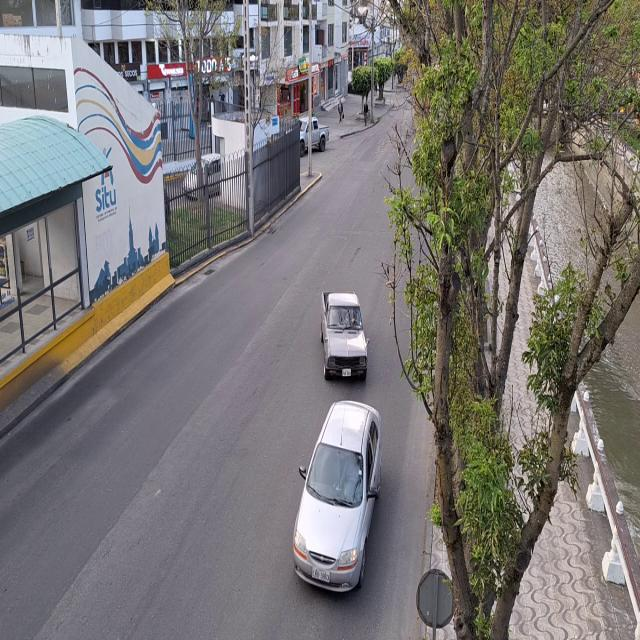CMT: (322, 290, 368, 380)
SED: (291, 397, 383, 597)
